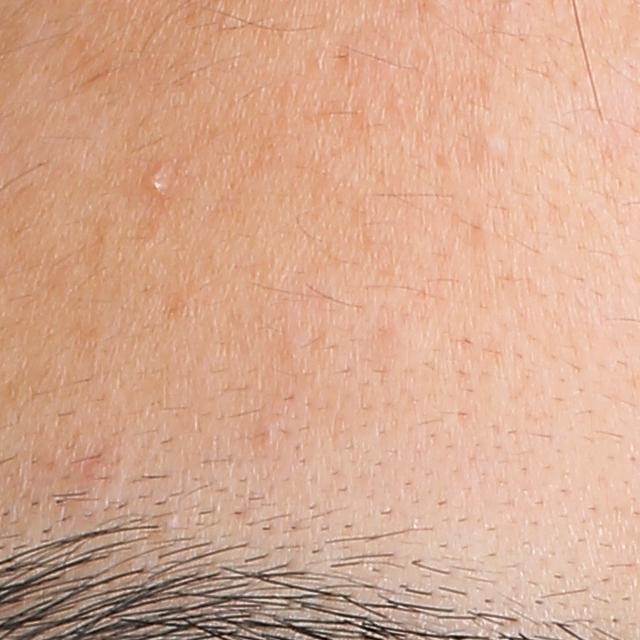comedo: (147, 166, 177, 199), (256, 416, 281, 449)
